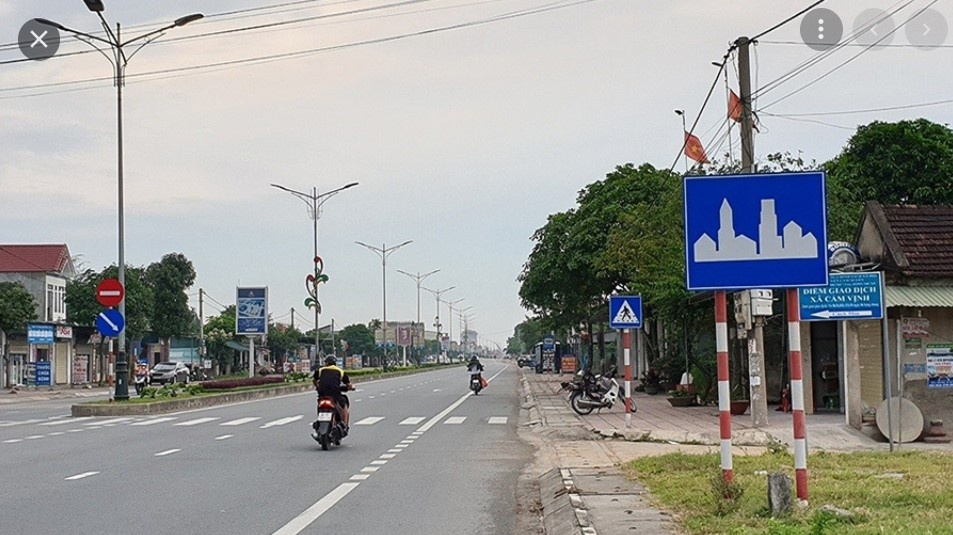Bien khac: (680, 173, 830, 287)
Cam di nguoc chieu: (97, 279, 125, 305)
Huong di phai re phai: (94, 309, 125, 336)
Nguoi di bo: (610, 295, 641, 331)
